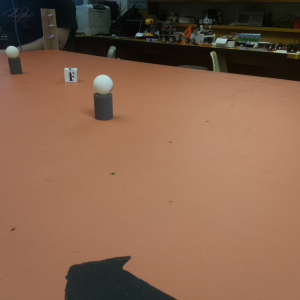blockF: (64, 67, 79, 83)
corner: (42, 7, 59, 48)
obstacle: (92, 75, 114, 120), (6, 46, 23, 75)
start: (66, 254, 173, 300)
